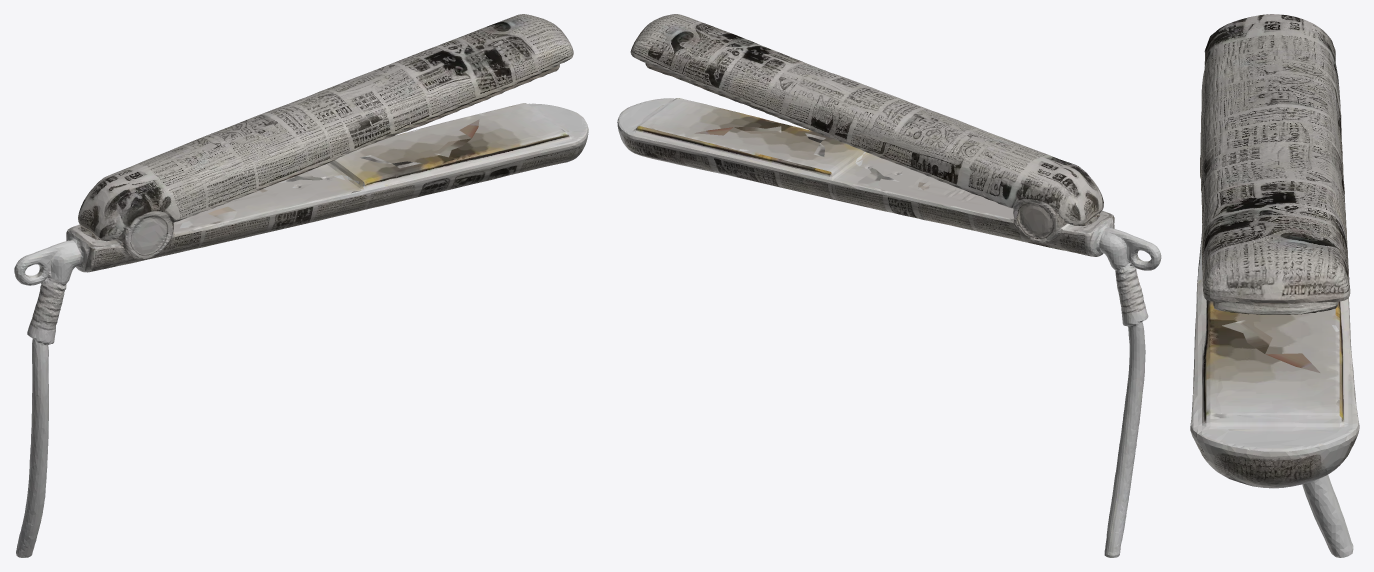
The model's file is chest (125).glb.
3 renders of one model, left to right at view 1: azimuth 30°, elevation 25°; view 2: azimuth 150°, elevation 25°; view 3: azimuth 270°, elevation 25°, orthographic. The views are drawn at different scales.
Visible parts, largest first — view 1: Hy21_Mesh.obj; view 2: Hy21_Mesh.obj; view 3: Hy21_Mesh.obj.
Part boxes in pixels (x1,y1,x2,y2): Hy21_Mesh.obj: [14, 14, 588, 557]; Hy21_Mesh.obj: [617, 14, 1161, 557]; Hy21_Mesh.obj: [1190, 14, 1359, 557].
Bounding box in the file's own units: 1.95 × 1.42 × 0.3179.
1 material, 1 textured.
